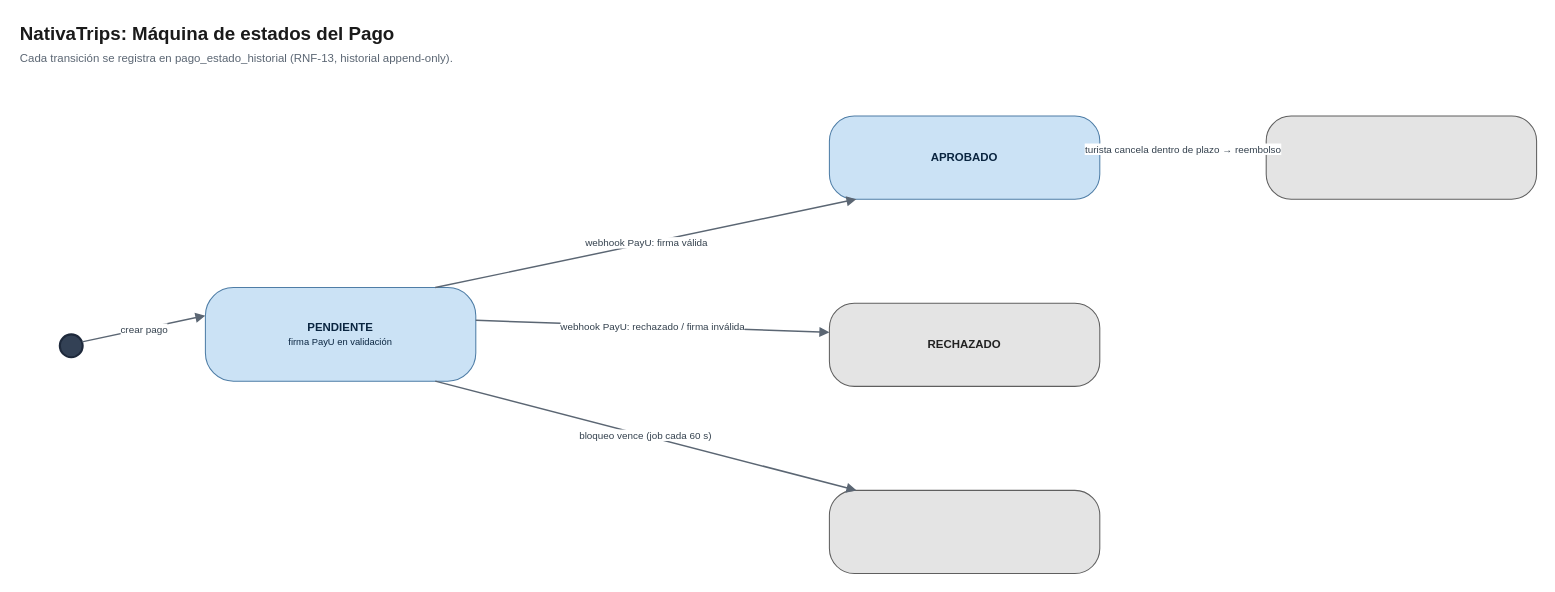
This 1555x592 diagram has some shape labels left out. Each missing label, with the centre of its shape:
EXPIRADO: point 964,531
REEMBOLSADO: point 1401,157
